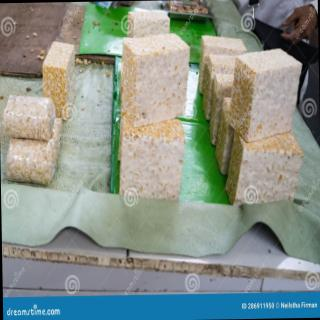Tempe: (1, 6, 320, 267), (1, 175, 320, 269), (229, 48, 305, 143), (224, 128, 305, 207), (118, 118, 187, 202), (5, 118, 64, 187), (198, 34, 249, 95), (42, 41, 77, 122), (2, 94, 57, 142), (201, 53, 239, 121), (209, 73, 236, 147), (214, 97, 237, 176), (127, 10, 171, 39)
